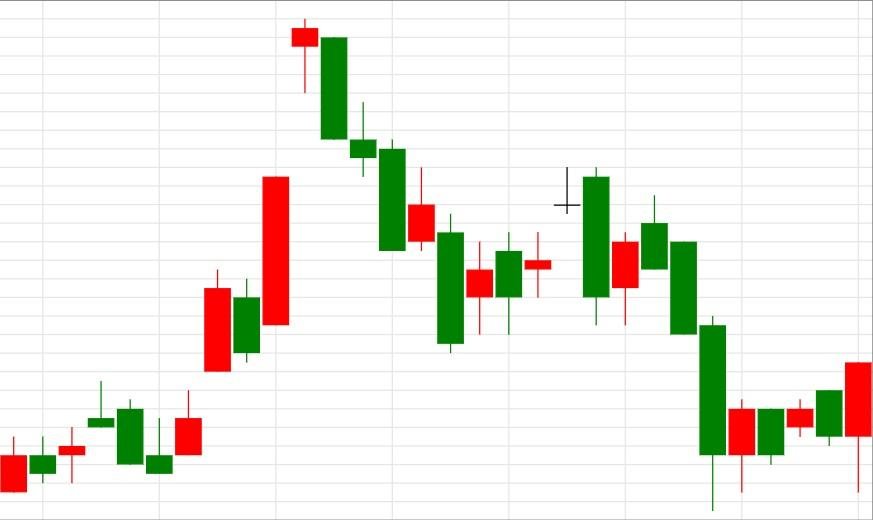hanging_man_fall: (145, 19, 319, 474)
